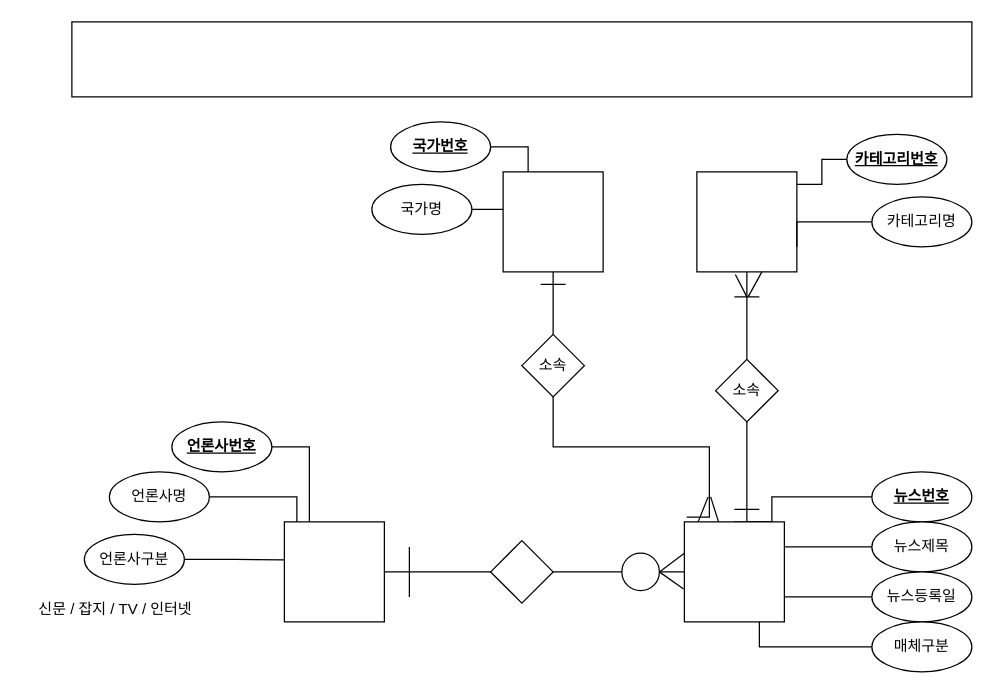
Some shapes in this 994 by 694 pixel diagram are drawn without their labels. The shapes that lost their labels are listed below. From the top down, each one's centre as x and y in pixels, then its label:
At point 521,59: "WATAPRESS ERD 설계".
At point 552,221: "국가".
At point 746,221: "카테고리".
At point 333,571: "언론사".
At point 521,571: "작성".
At point 733,571: "뉴스".
